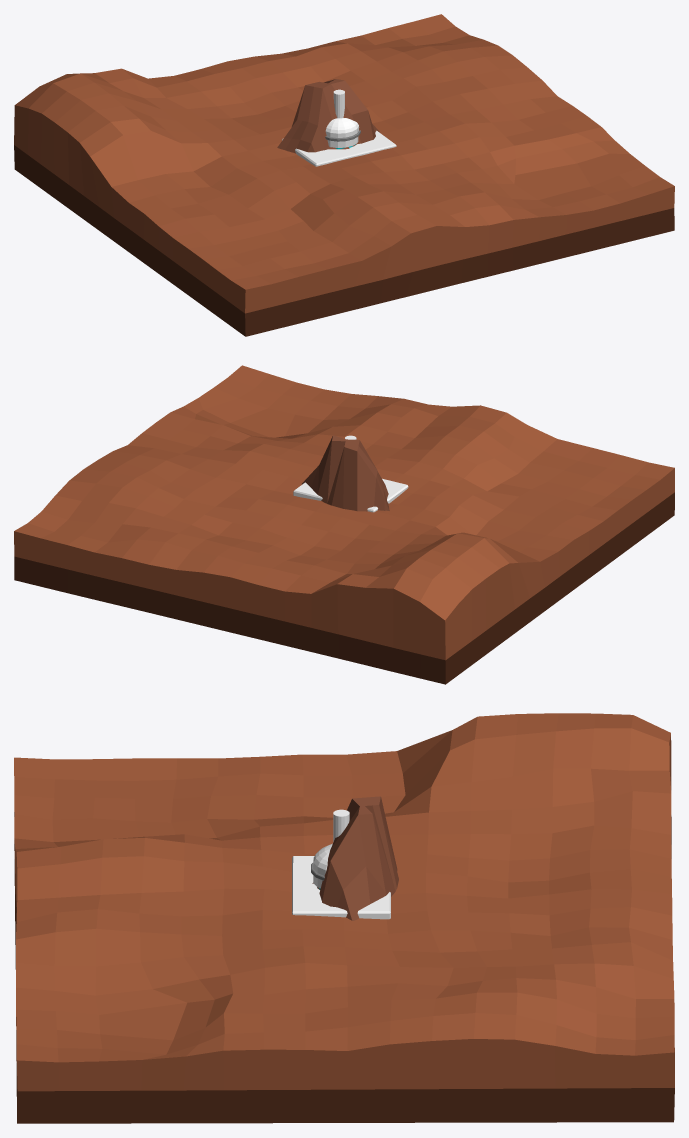
File: Future Mars Base.fbx
3 renders of one model, top to bottom at view 1: azimuth 30°, elevation 25°; view 2: azimuth 150°, elevation 25°; view 3: azimuth 270°, elevation 25°, orthographic. The views are drawn at different scales.
Parts seen in each view (by area): view 1: Land.001, Rocks.002, Base.013, Reserve tank.002; view 2: Land.001, Rocks.002, Base.013; view 3: Land.001, Rocks.002, Base.013.
Part boxes in pixels (bbox=[...]): Land.001: bbox=[14, 14, 674, 336]; Rocks.002: bbox=[277, 79, 379, 153]; Base.013: bbox=[282, 130, 396, 166]; Reserve tank.002: bbox=[325, 117, 360, 149]; Land.001: bbox=[14, 365, 674, 684]; Rocks.002: bbox=[302, 435, 389, 511]; Base.013: bbox=[293, 478, 408, 512]; Land.001: bbox=[14, 713, 674, 1123]; Rocks.002: bbox=[312, 796, 398, 920]; Base.013: bbox=[292, 856, 390, 919].
Bounding box in the file's own units: 729 × 198 × 676.
1 material, 1 textured.
